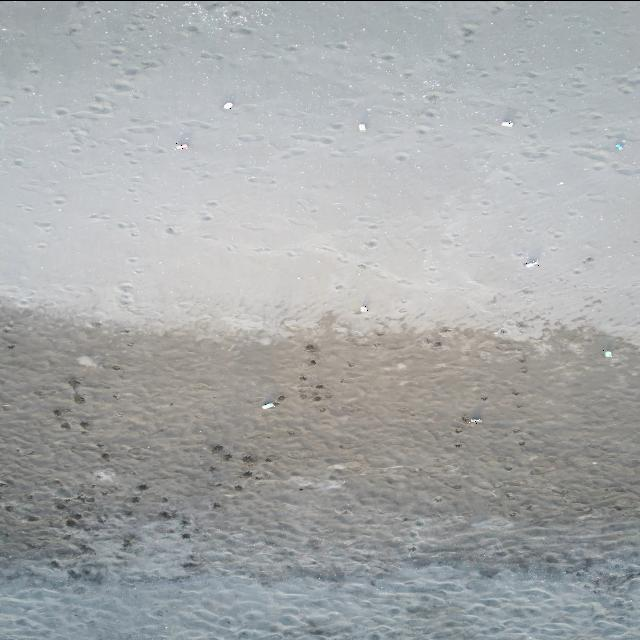Garbage: (77, 355, 96, 367), (463, 415, 482, 423), (524, 259, 539, 267), (615, 140, 624, 150), (357, 121, 366, 131), (175, 141, 187, 148), (500, 120, 512, 127), (603, 348, 612, 356), (223, 101, 232, 108), (360, 303, 367, 312), (263, 403, 275, 408)
